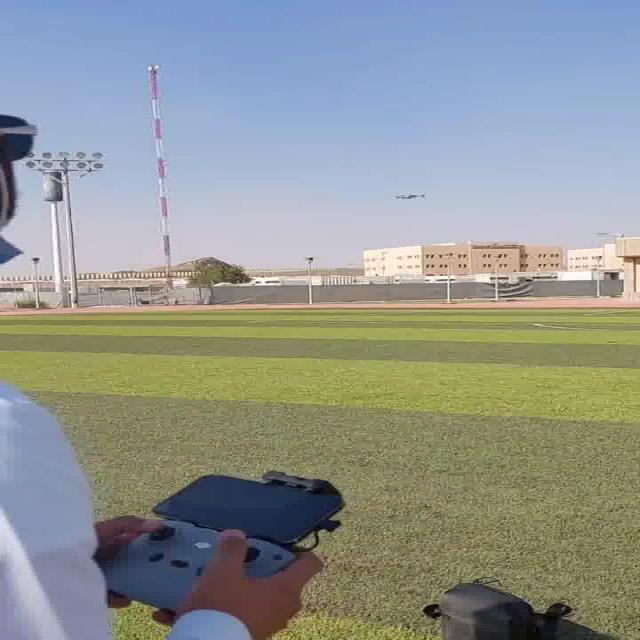drone: (385, 188, 435, 204)
